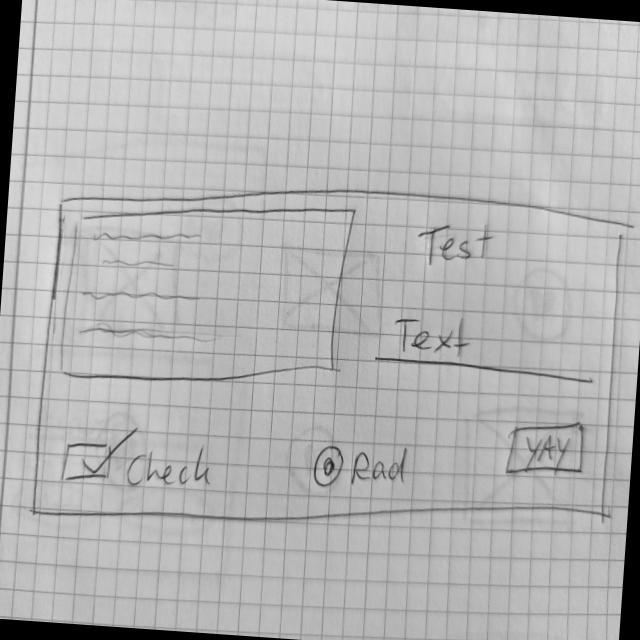button: (497, 414, 589, 483)
checkbox: (61, 423, 216, 496)
container: (27, 164, 631, 561)
input: (373, 307, 603, 390)
label: (416, 216, 498, 274)
radio: (308, 437, 416, 496)
textbox: (55, 185, 361, 400)
